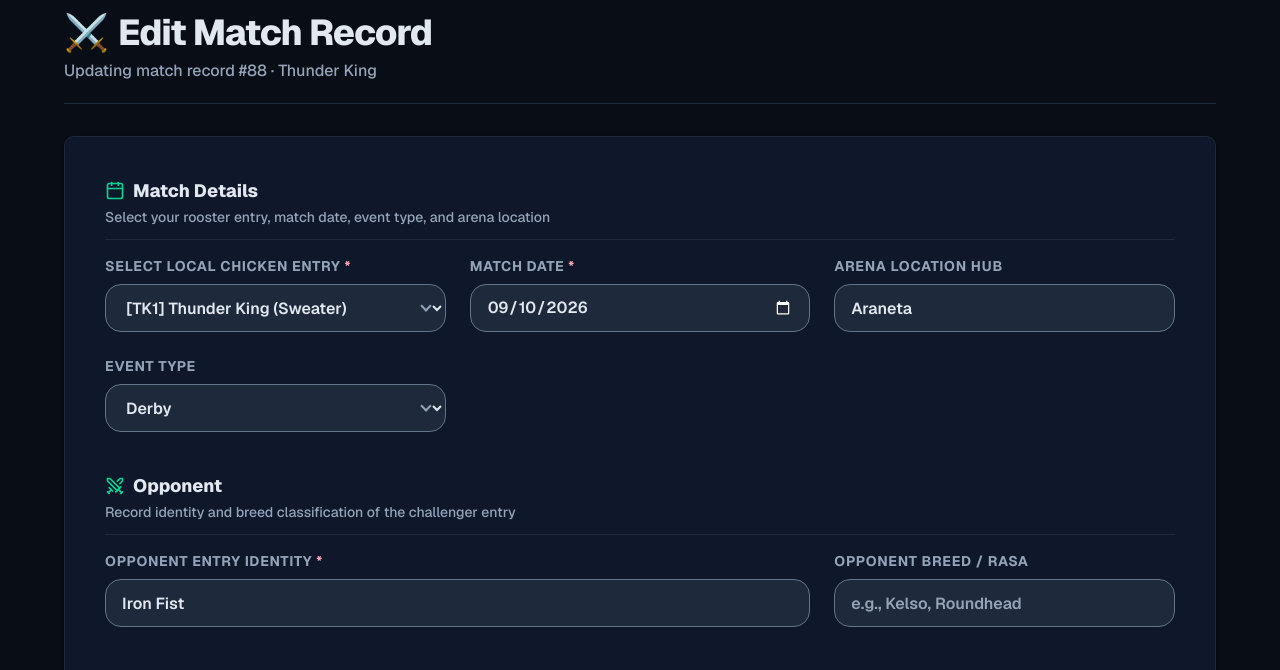
Test: MatchRecordForm edit path — cases (a) to (j) [FIXTURE] › (j) Dirty-form guard — no false trigger after save › shows discard dialog when navigating away after editing WITHOUT saving
Make the form dirty
Replace the text in the field labelled "Opponent Entry Identity *" with "Dirty Value" at (458, 603), box top-left (105, 579), bottom-right (810, 627)
(page scrolled)
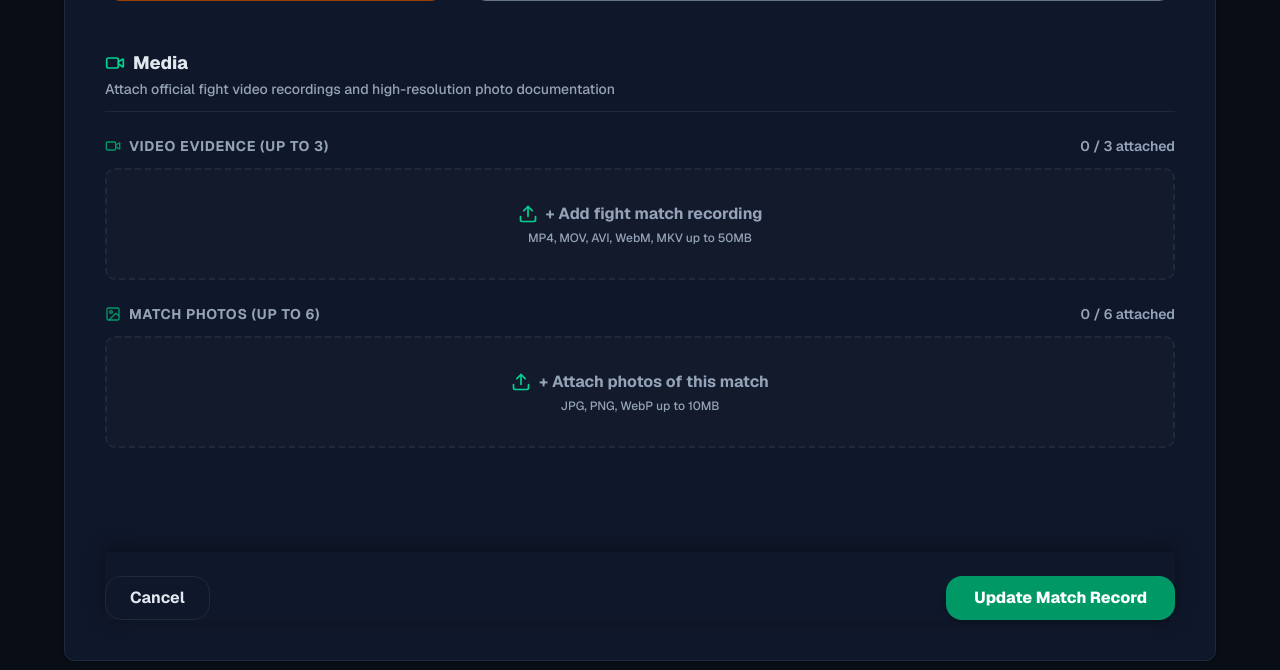
Click Cancel
Click the button "Cancel".
click(157, 598)  # box top-left (105, 576), bottom-right (210, 620)
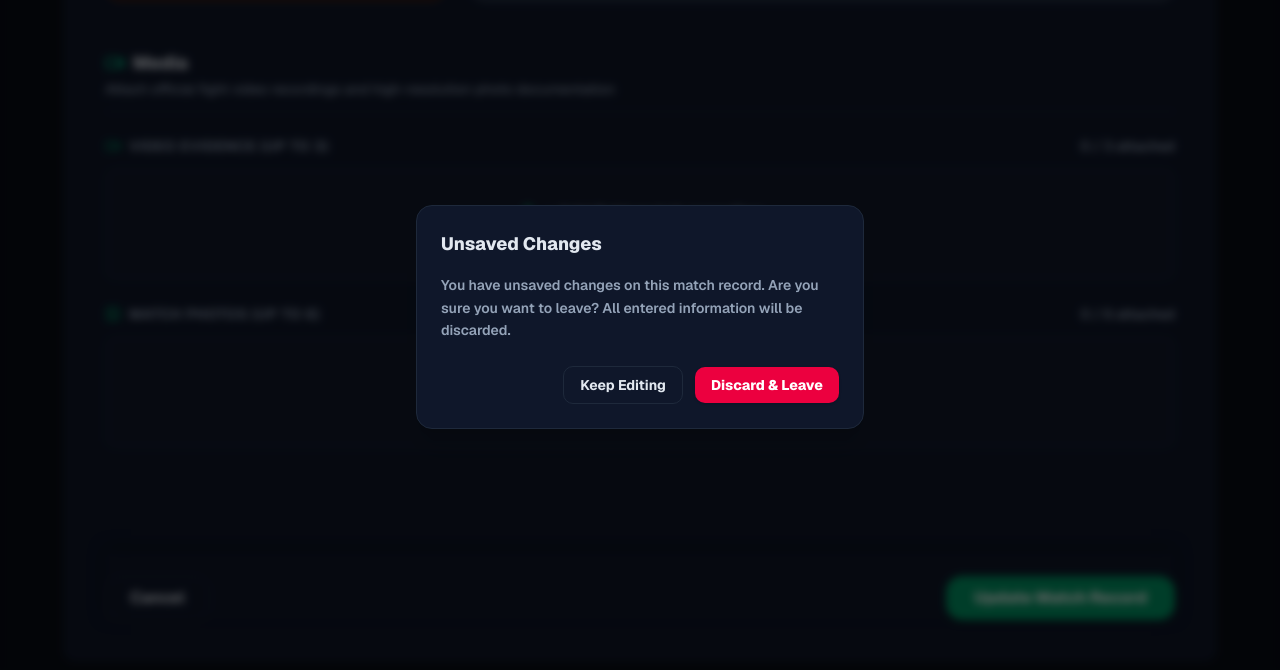
Expected: the heading "Unsaved Changes" is shown, top-left (441, 232), bottom-right (602, 255)
